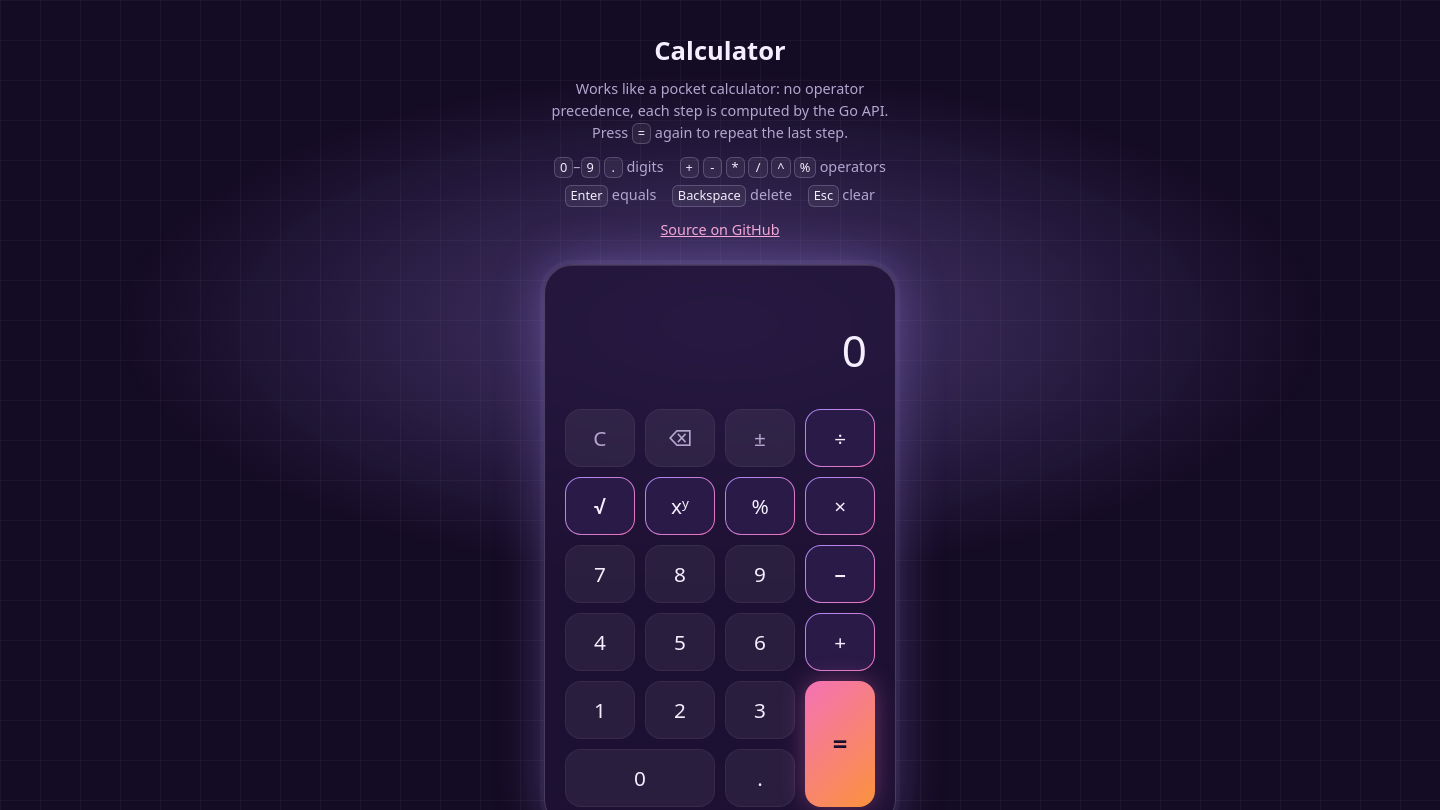
Test: App › calculates with the keypad and repeats on =
The image size is (1440, 810).
Click the button "1" at coordinates (600, 710), box x1=565 y1=681 x2=635 y2=739
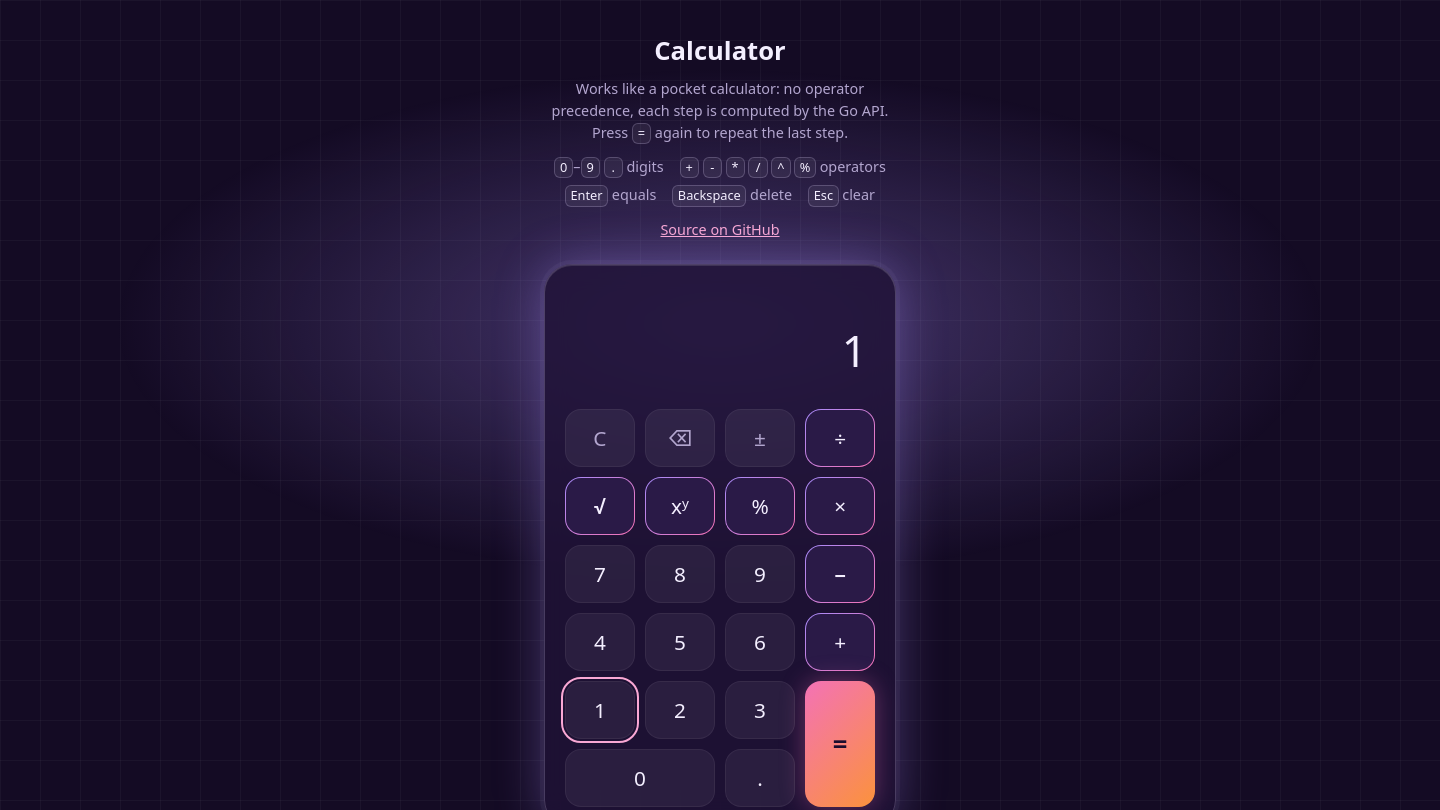
Click the button "2" at coordinates (680, 710), box x1=645 y1=681 x2=715 y2=739
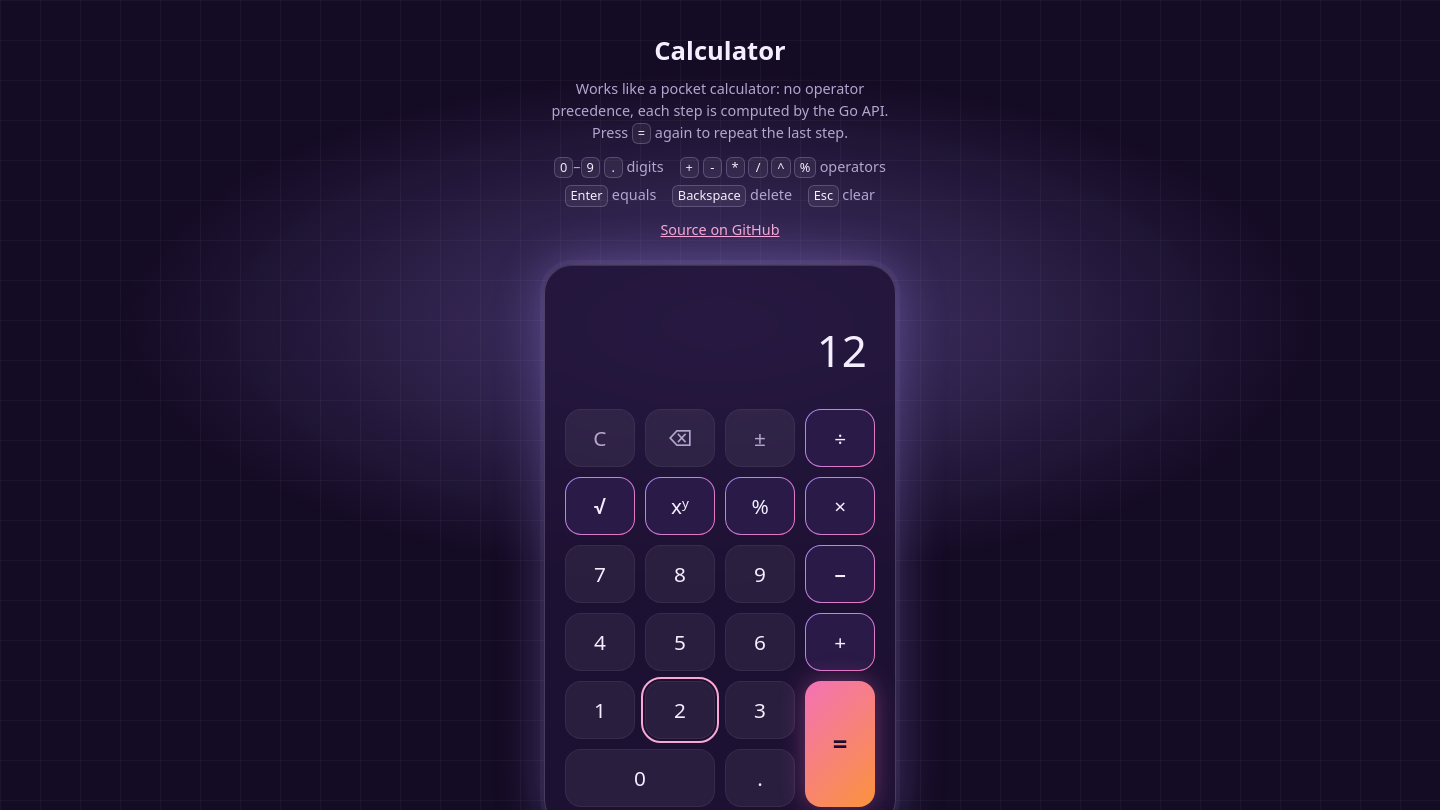
Click the button named "Add" at coordinates (840, 642), box x1=805 y1=613 x2=875 y2=671
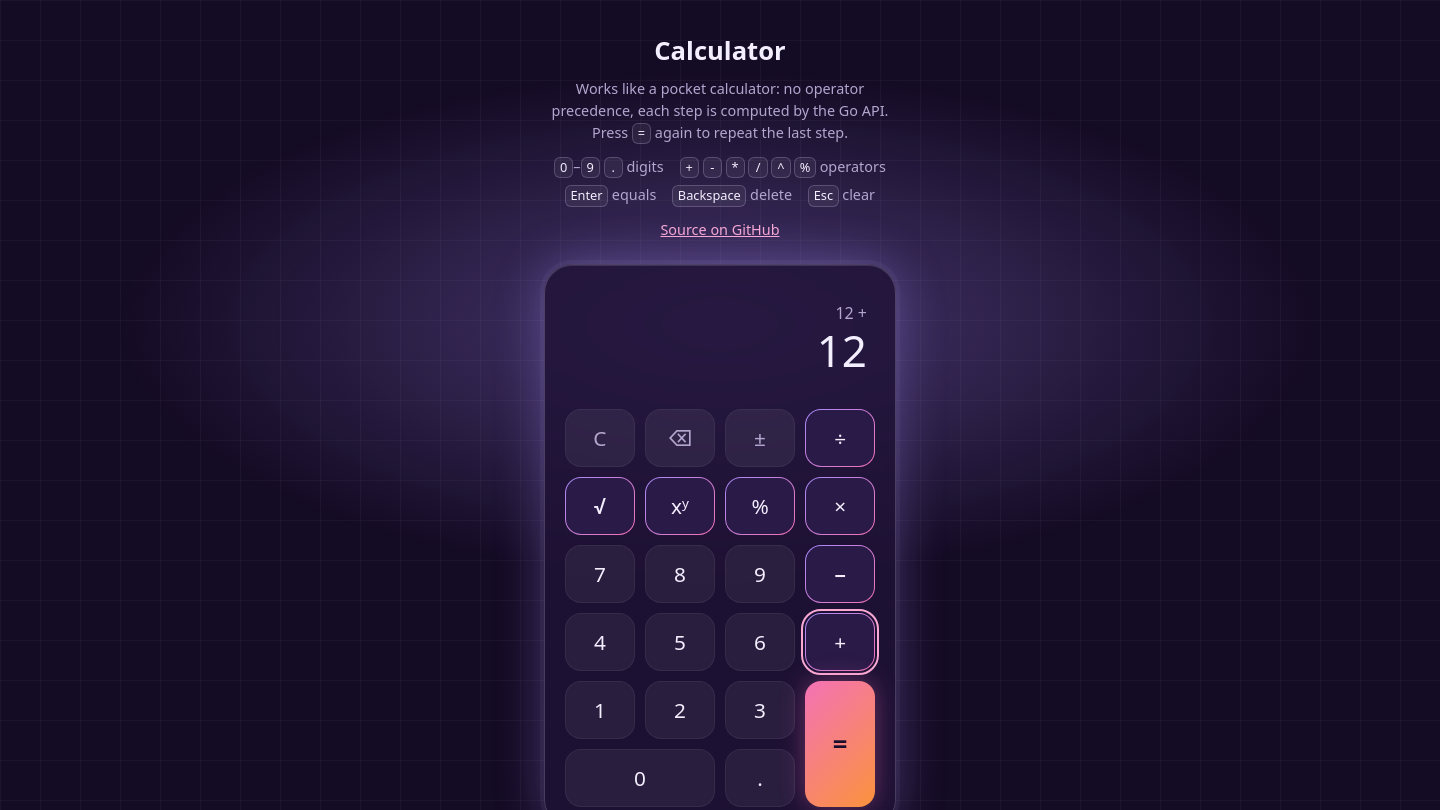
Click the button "3" at coordinates (760, 710), box x1=725 y1=681 x2=795 y2=739
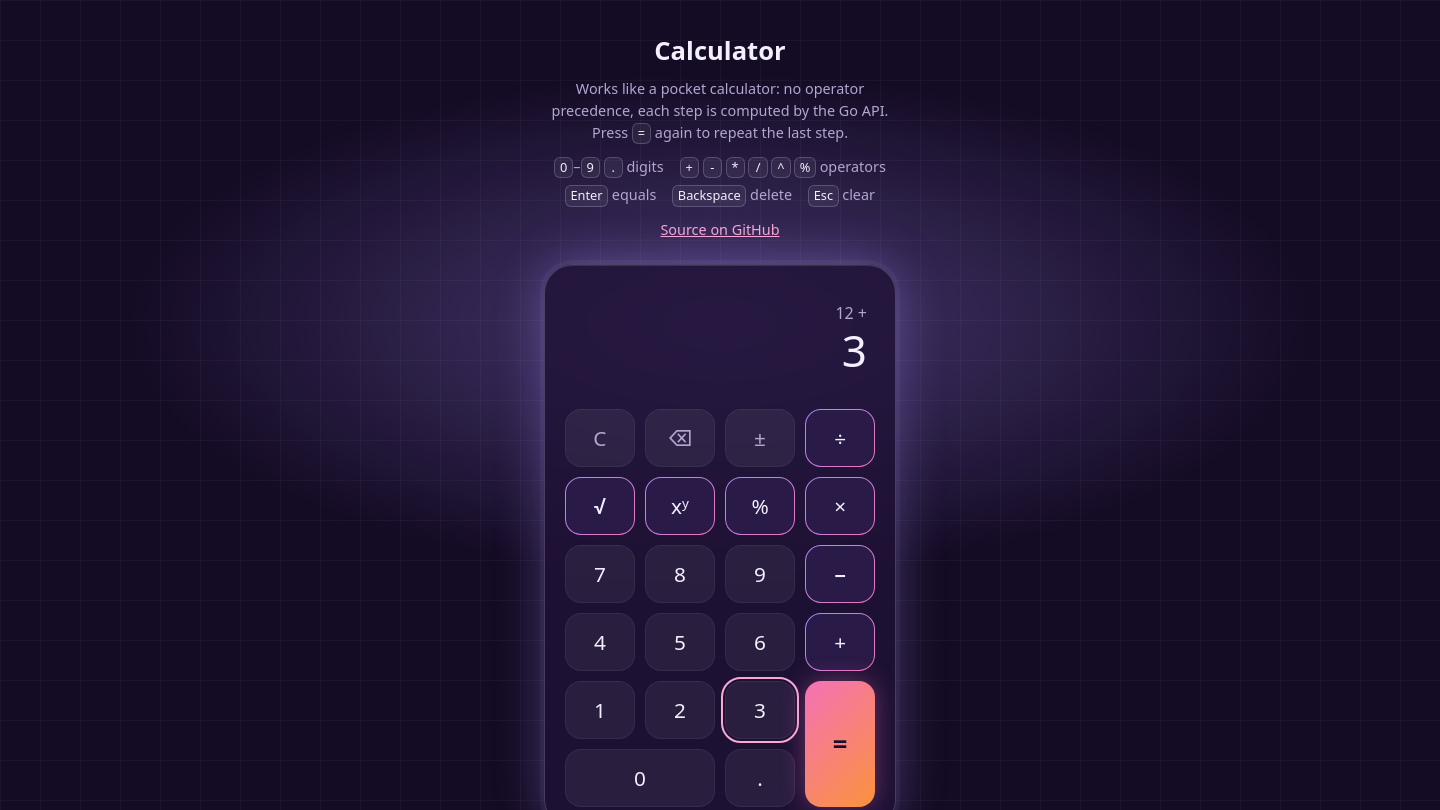
Click the button named "Equals" at coordinates (840, 744), box x1=805 y1=681 x2=875 y2=807
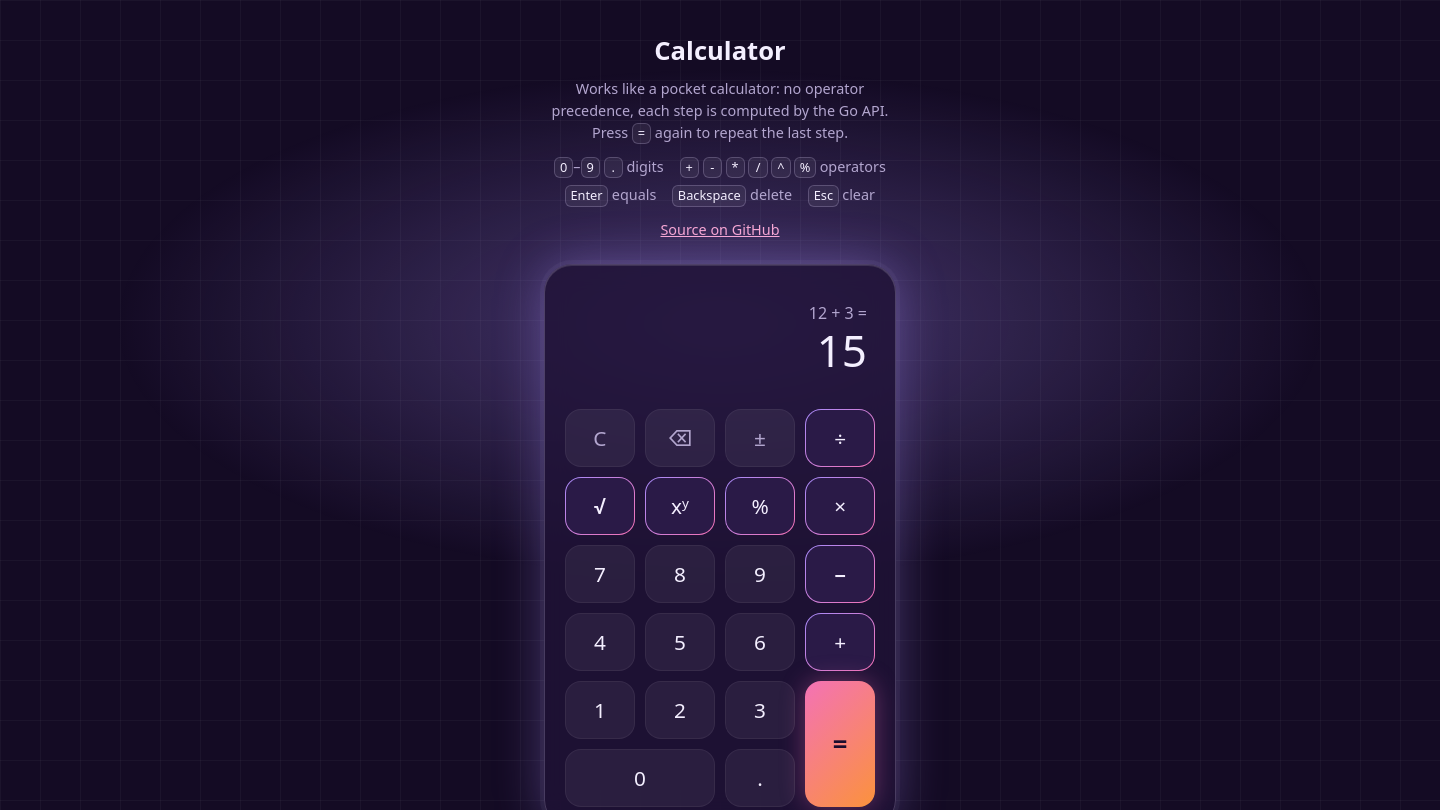
Now the text with test id "display" reads "15", box x1=817 y1=320 x2=867 y2=380
Now the text with test id "expression" reads "12 + 3 =", box x1=809 y1=302 x2=867 y2=324
Click the button named "Equals" at coordinates (840, 744), box x1=805 y1=681 x2=875 y2=807
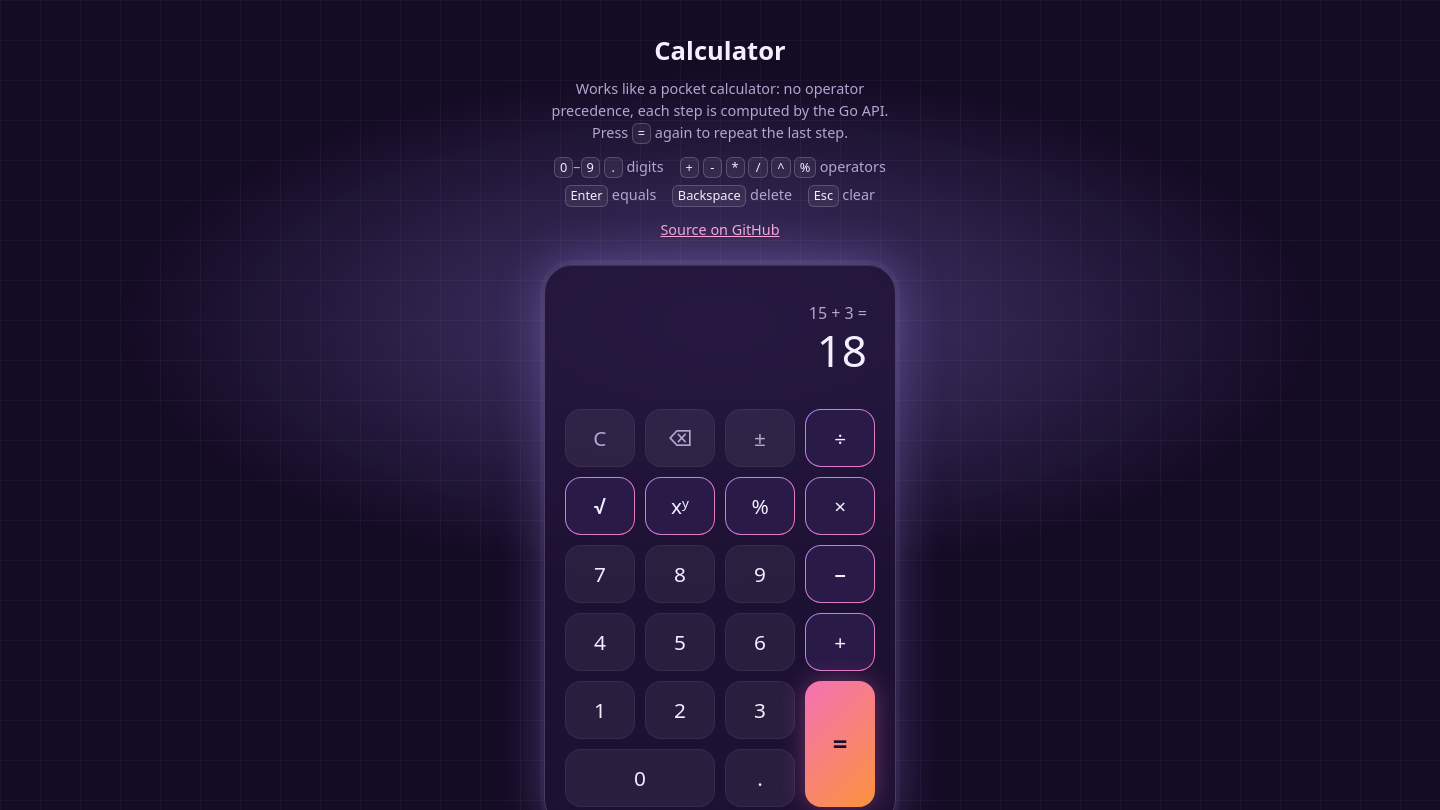
Now the text with test id "display" reads "18", box x1=817 y1=320 x2=867 y2=380
Now the text with test id "expression" reads "15 + 3 =", box x1=809 y1=302 x2=867 y2=324
